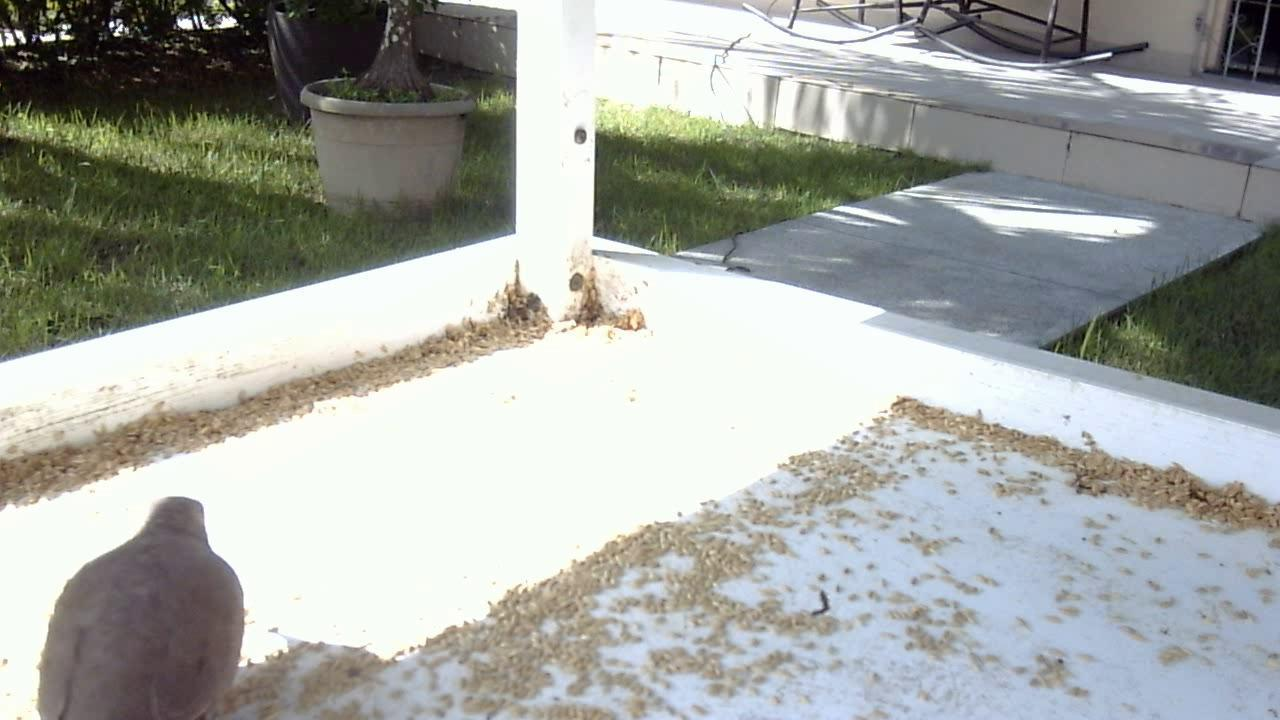rolinha: (29, 485, 258, 720)
